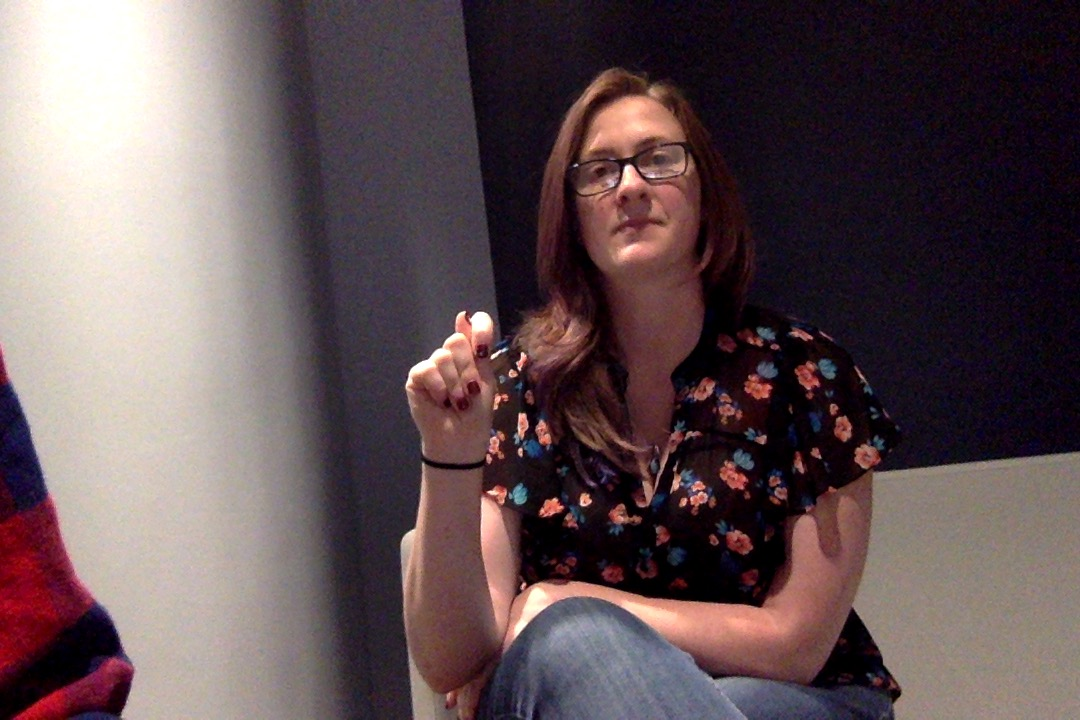t: (390, 286, 519, 526)
